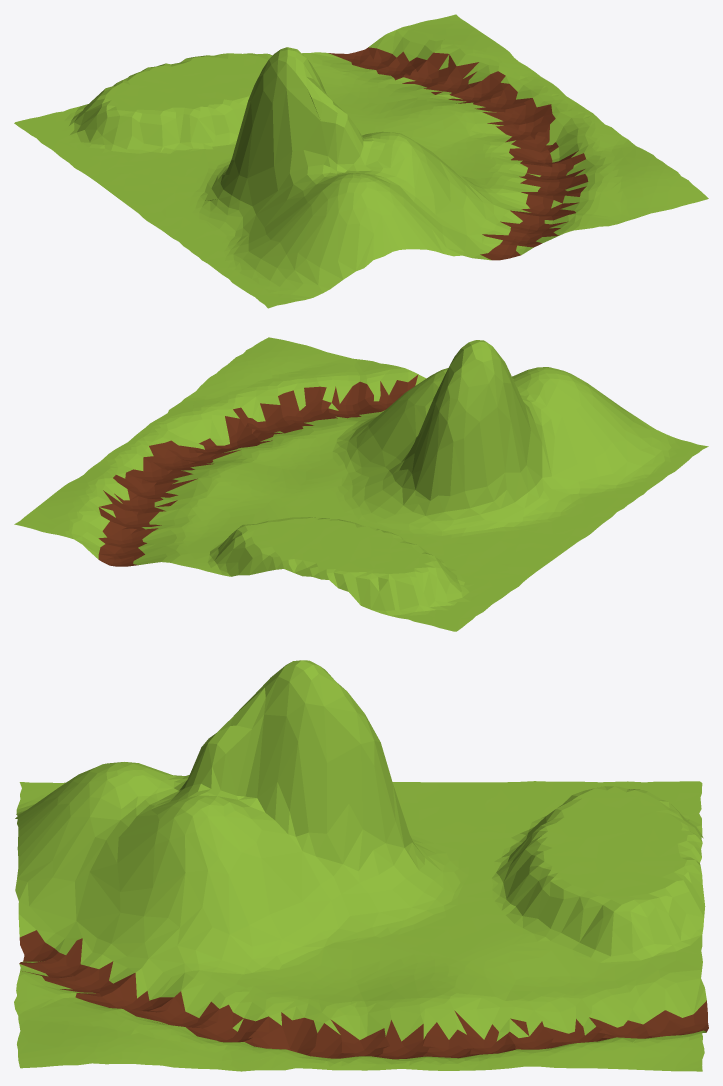
Rendered from landscape_attempt.fbx.
3 renders of one model, top to bottom at view 1: azimuth 30°, elevation 25°; view 2: azimuth 150°, elevation 25°; view 3: azimuth 270°, elevation 25°, orthographic. The views are drawn at different scales.
Parts seen in each view (by area): view 1: Forest00v0.1; view 2: Forest00v0.1; view 3: Forest00v0.1.
Part boxes in pixels (bbox=[...]): Forest00v0.1: bbox=[14, 14, 708, 308]; Forest00v0.1: bbox=[14, 337, 708, 631]; Forest00v0.1: bbox=[14, 660, 708, 1071].
Size of the model in its own units: 15077 by 5552 by 15219.
